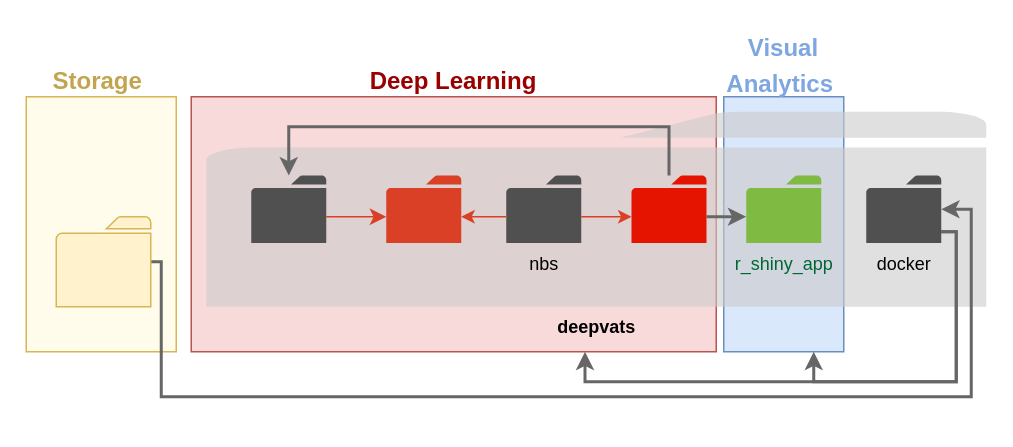
Image size: 1013x447. Some labels were removed from this diagram. Here are the shapes that lost their labels. From the top down, the centre of each, then its label:
At pixel 288 208: "nbs_pipeline".
At pixel 423 208: "docs (html)".
At pixel 668 208: "dvats".
At pixel 103 261: "work_dir".
